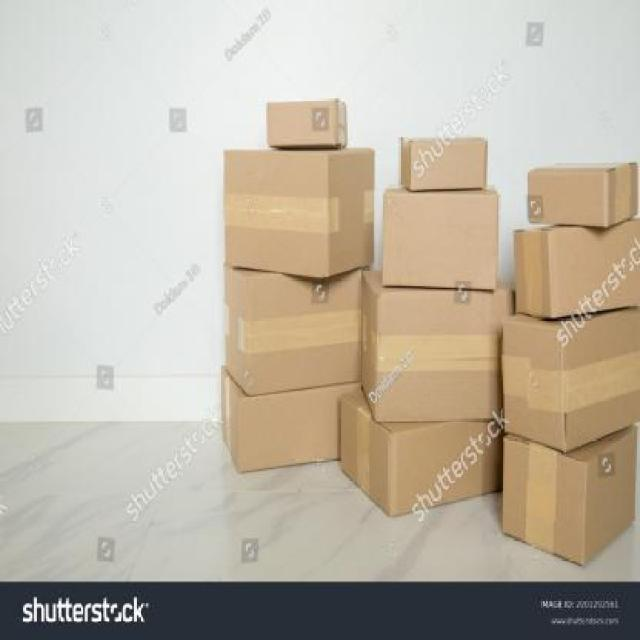BoxFace: (378, 295, 517, 420), (248, 265, 364, 393), (224, 151, 327, 277), (380, 194, 500, 290), (390, 419, 502, 518), (238, 384, 362, 472), (502, 439, 586, 568), (546, 217, 640, 320), (503, 318, 566, 453), (528, 168, 608, 226), (413, 138, 487, 191), (268, 98, 337, 146)
